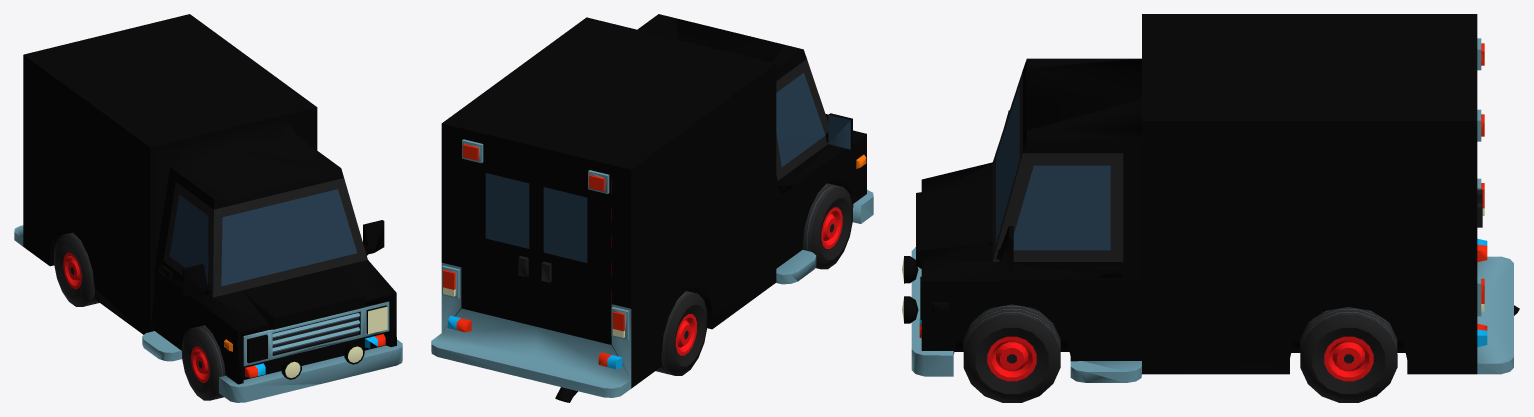
The model's file is Truck_1.fbx.
3 renders of one model, left to right at view 1: azimuth 30°, elevation 25°; view 2: azimuth 150°, elevation 25°; view 3: azimuth 270°, elevation 25°, orthographic. The views are drawn at different scales.
Parts seen in each view (by area): view 1: Car, FR, BR; view 2: Car, DoorRight, DoorLeft, FR, BR; view 3: Car, FL, BL.
Part boxes in pixels (left/top/right/bottom): Car: left=14, top=14, right=402, bottom=402; FR: left=182, top=325, right=225, bottom=400; BR: left=54, top=232, right=99, bottom=306; Car: left=431, top=14, right=873, bottom=402; DoorRight: left=536, top=151, right=611, bottom=344; DoorLeft: left=461, top=133, right=536, bottom=325; FR: left=802, top=183, right=852, bottom=269; BR: left=656, top=291, right=707, bottom=375; Car: left=902, top=14, right=1519, bottom=382; FL: left=963, top=304, right=1060, bottom=402; BL: left=1300, top=307, right=1397, bottom=402.
Size of the model in its own units: 241 by 247 by 490.
Materials: 5 (3 with a texture image).
